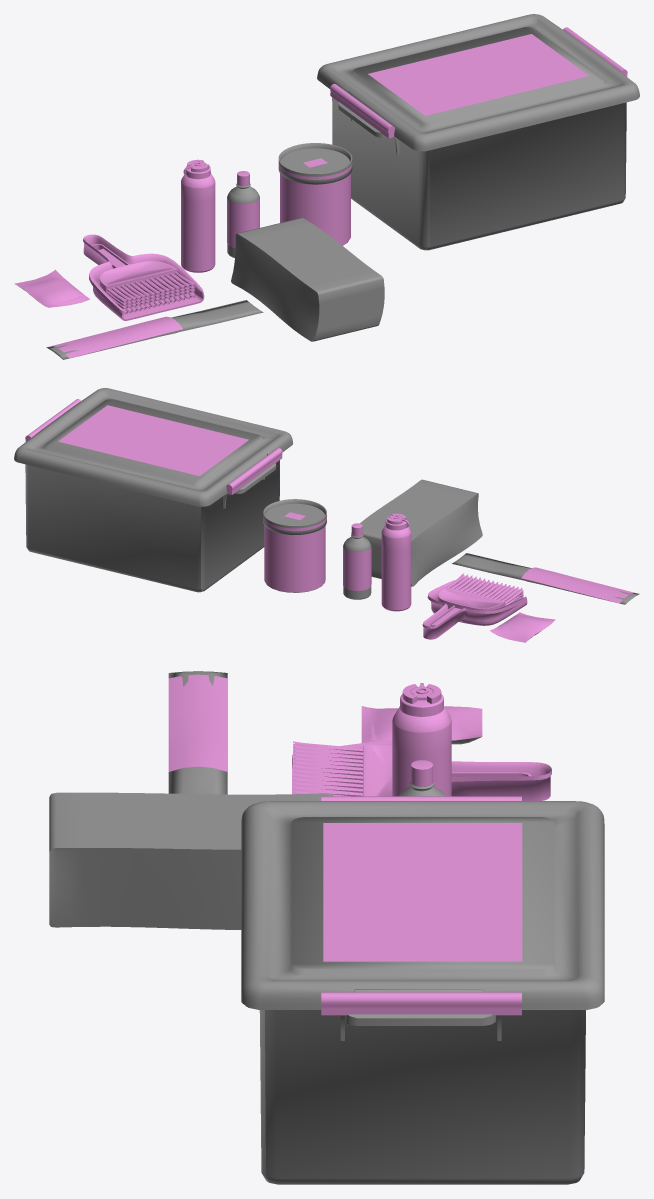
3 views of the same model, one above another, from view 1: azimuth 30°, elevation 25°; view 2: azimuth 150°, elevation 25°; view 3: azimuth 270°, elevation 25° (orthographic). The views are drawn at different scales.
Parts seen in each view (by area): view 1: 10035, 1, 9, 5, 2, 3, 8, 4, 7; view 2: 10035, 1, 9, 2, 5, 3, 8, 4, 7; view 3: 1, 10035, 9, 5, 8, 3, 7, 4.
Part boxes in pixels (bbox=[...]): 10035: bbox=[332, 92, 626, 250]; 1: bbox=[317, 14, 639, 151]; 9: bbox=[231, 217, 384, 341]; 5: bbox=[83, 234, 204, 320]; 2: bbox=[278, 143, 352, 245]; 3: bbox=[181, 159, 215, 272]; 8: bbox=[46, 300, 263, 359]; 4: bbox=[227, 171, 259, 257]; 7: bbox=[14, 269, 89, 307]; 10035: bbox=[25, 454, 279, 592]; 1: bbox=[14, 388, 293, 506]; 9: bbox=[351, 479, 482, 586]; 2: bbox=[263, 499, 326, 592]; 5: bbox=[422, 573, 527, 639]; 3: bbox=[381, 513, 411, 611]; 8: bbox=[452, 553, 639, 604]; 4: bbox=[343, 523, 371, 599]; 7: bbox=[490, 612, 555, 642]; 1: bbox=[241, 796, 604, 1015]; 10035: bbox=[245, 990, 600, 1184]; 9: bbox=[49, 792, 333, 929]; 5: bbox=[292, 740, 551, 800]; 8: bbox=[168, 671, 227, 794]; 3: bbox=[392, 683, 451, 796]; 7: bbox=[361, 706, 482, 744]; 4: bbox=[398, 760, 445, 796].
Size of the model in its own units: 4.95 by 0.9549 by 2.25.
